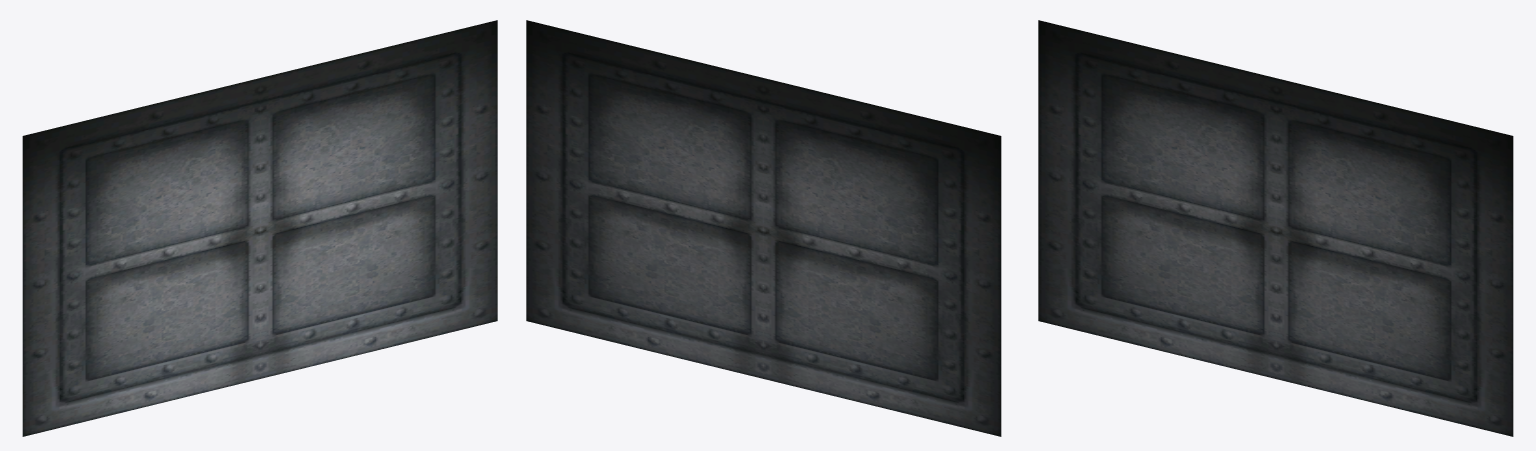
File: DOORBLAST_M3_TUNNEL.glb
The picture shows the model from 3 angles, left to right: view 1: azimuth 30°, elevation 25°; view 2: azimuth 150°, elevation 25°; view 3: azimuth 330°, elevation 25°; orthographic projection.
Visible parts, largest first — view 1: DOORBLAST_M3_TUNNEL; view 2: DOORBLAST_M3_TUNNEL; view 3: DOORBLAST_M3_TUNNEL.
Part boxes in pixels (bbox=[...]): DOORBLAST_M3_TUNNEL: bbox=[22, 20, 497, 436]; DOORBLAST_M3_TUNNEL: bbox=[526, 20, 1001, 436]; DOORBLAST_M3_TUNNEL: bbox=[1038, 20, 1513, 436].
Size of the model in its own units: 4.57 by 2.77 by 0.138.
Materials: 2 (2 with a texture image).
